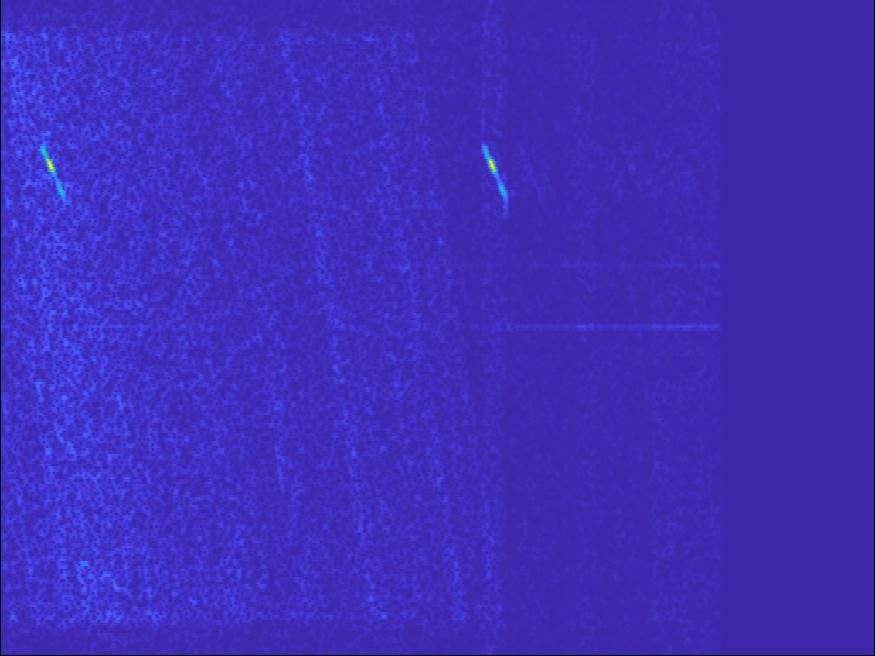Interference: (495, 569, 607, 656), (391, 282, 487, 362), (15, 523, 141, 574), (593, 1, 683, 64), (396, 459, 503, 506), (271, 304, 370, 353)
